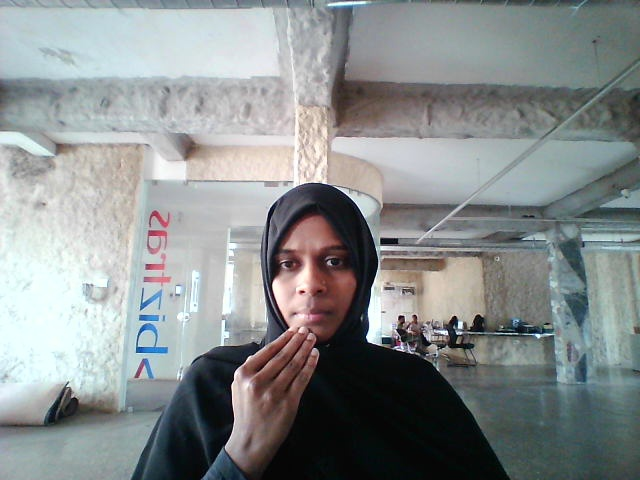THANKS: (206, 324, 344, 466)
